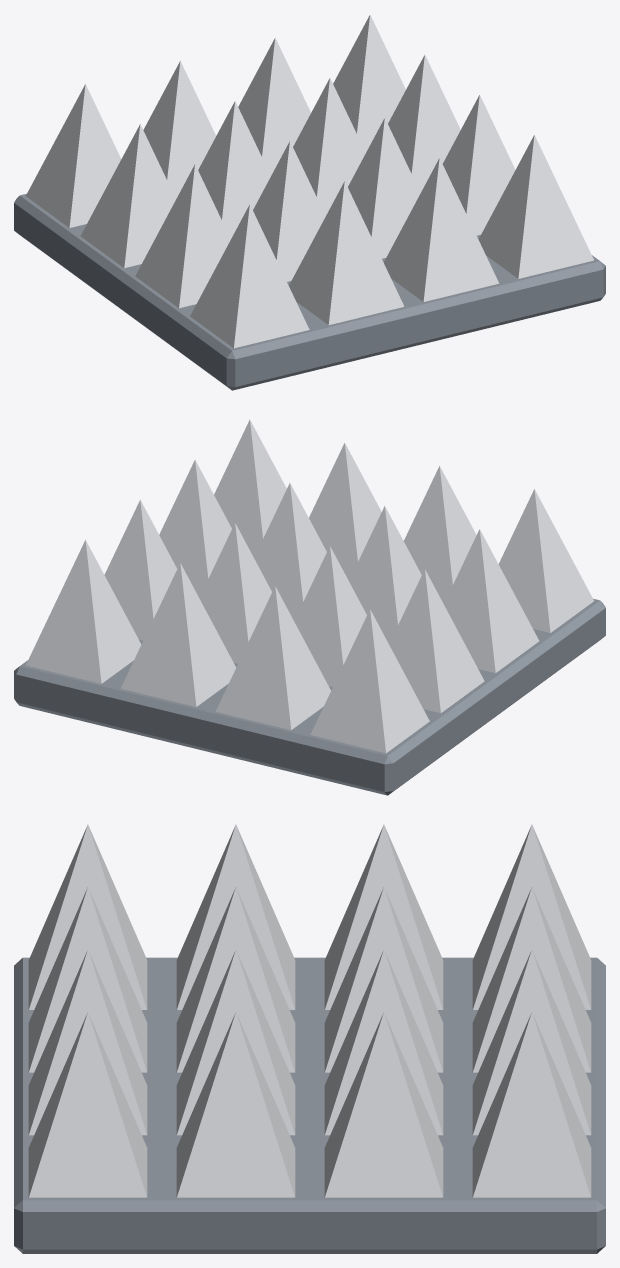
Rendered from Spikes.fbx.
3 renders of one model, top to bottom at view 1: azimuth 30°, elevation 25°; view 2: azimuth 150°, elevation 25°; view 3: azimuth 270°, elevation 25°, orthographic. The views are drawn at different scales.
Visible parts, largest first — view 1: Spikes; view 2: Spikes; view 3: Spikes.
Part boxes in pixels (left/top/right/bottom): Spikes: left=14, top=14, right=605, bottom=390; Spikes: left=14, top=419, right=605, bottom=795; Spikes: left=14, top=824, right=605, bottom=1253.
Bounding box in the file's own units: 4 × 1.6 × 4.
1 material, 1 textured.
